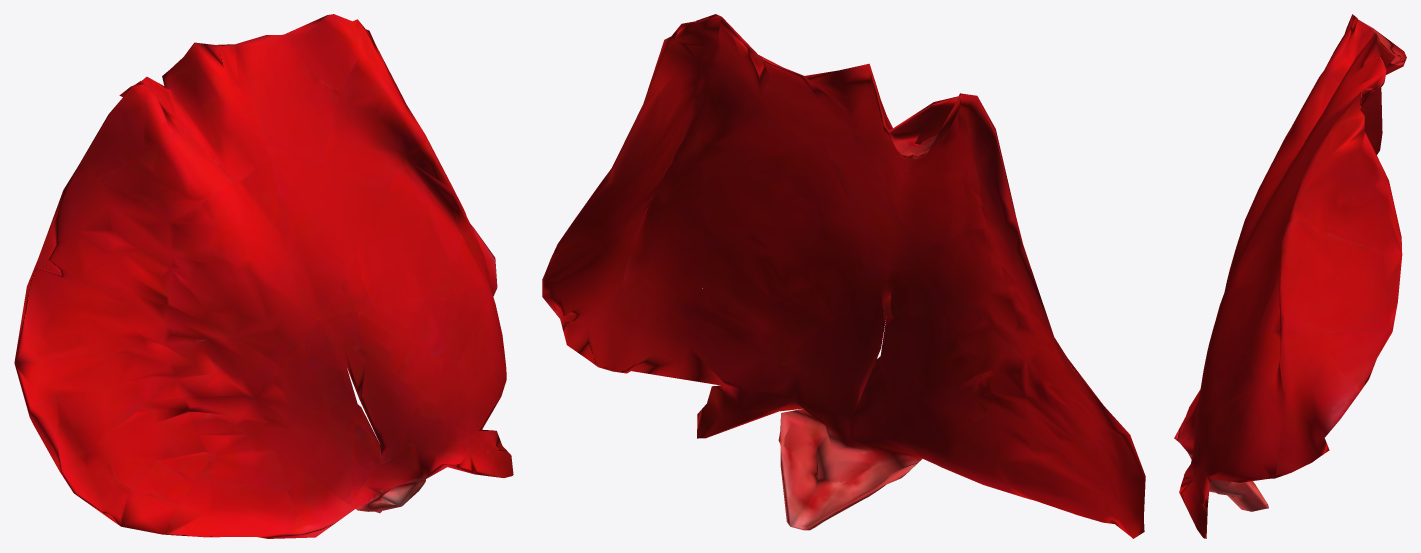
The model's file is petals.glb.
3 views of the same model, side by side, from view 1: azimuth 30°, elevation 25°; view 2: azimuth 150°, elevation 25°; view 3: azimuth 270°, elevation 25° (orthographic). The views are drawn at different scales.
Parts seen in each view (by area): view 1: tripo_node_ea3c314b-c735-45c0-8864-22e7ba57ee6d; view 2: tripo_node_ea3c314b-c735-45c0-8864-22e7ba57ee6d; view 3: tripo_node_ea3c314b-c735-45c0-8864-22e7ba57ee6d.
Boxes of the visible parts, x1=… form: tripo_node_ea3c314b-c735-45c0-8864-22e7ba57ee6d: x1=14, y1=14, x2=513, y2=538; tripo_node_ea3c314b-c735-45c0-8864-22e7ba57ee6d: x1=542, y1=14, x2=1145, y2=538; tripo_node_ea3c314b-c735-45c0-8864-22e7ba57ee6d: x1=1174, y1=14, x2=1406, y2=538.
Bounding box in the file's own units: 0.9732 × 0.876 × 0.4338.
1 material, 1 textured.
